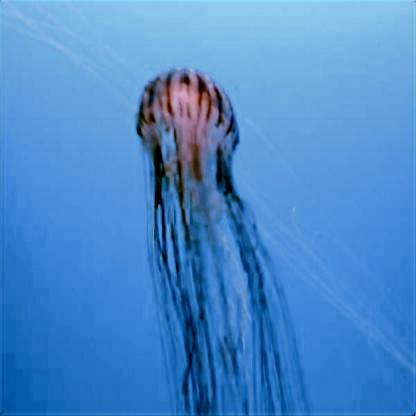Moon: (136, 68, 274, 401)
